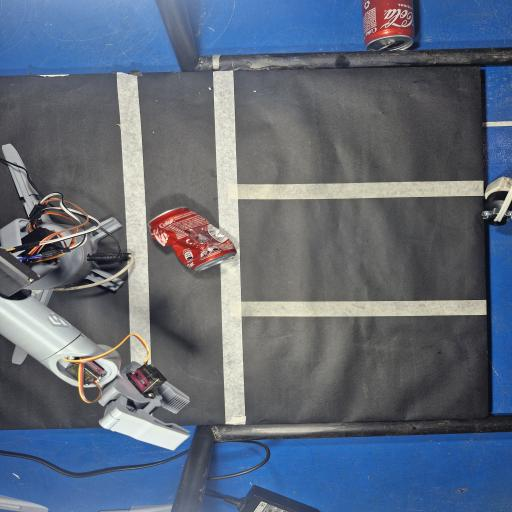lata_defectuoso: (149, 208, 236, 270)
